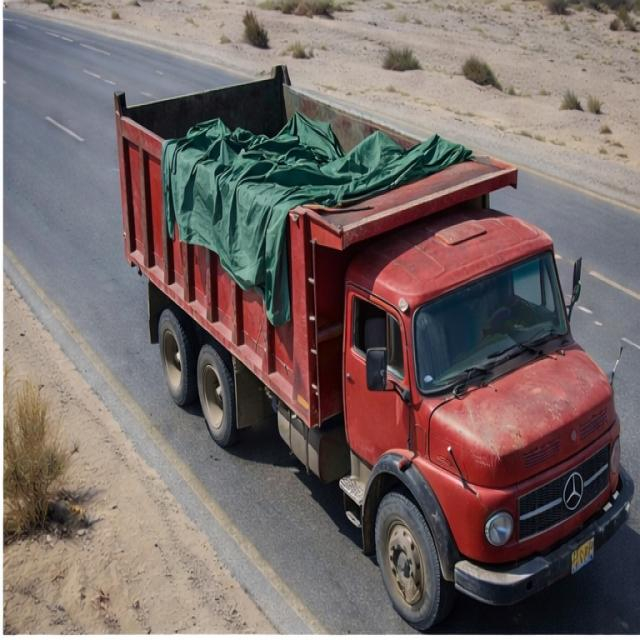Box: (107, 62, 555, 253)
Truck: (103, 33, 636, 629)
